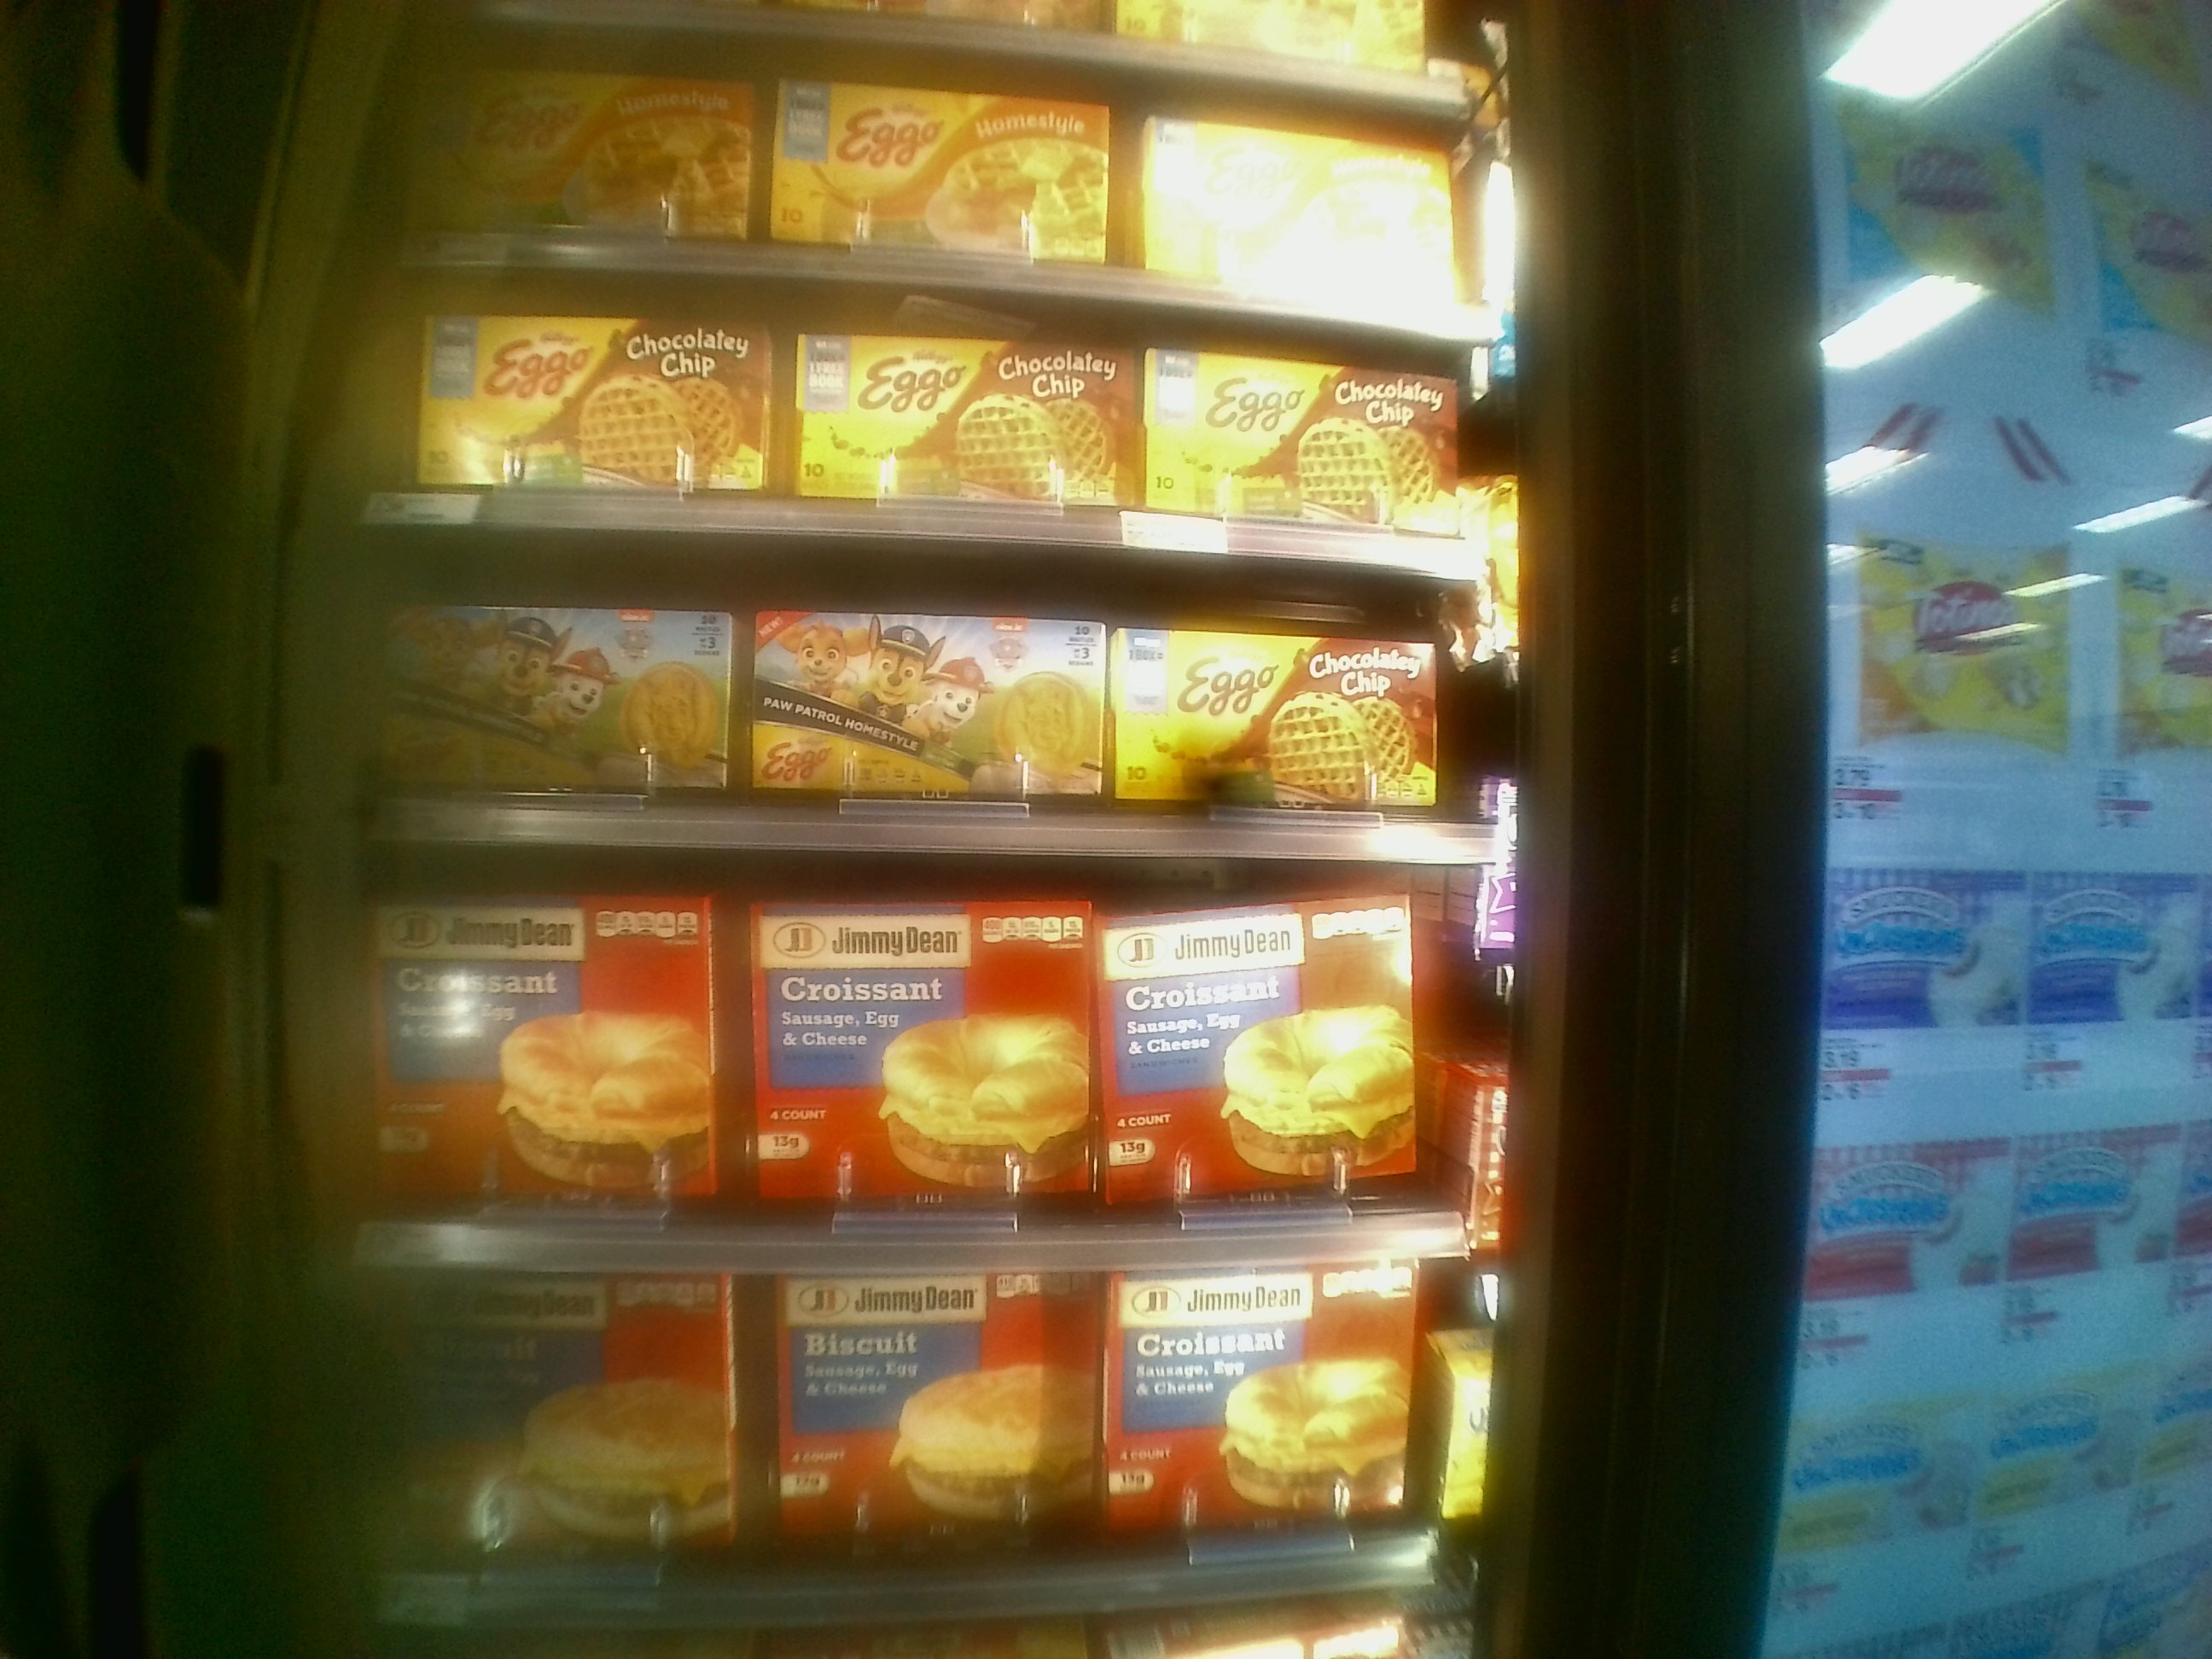shelf: (366, 829, 1482, 1258), (371, 532, 1482, 859), (364, 254, 1491, 566)
